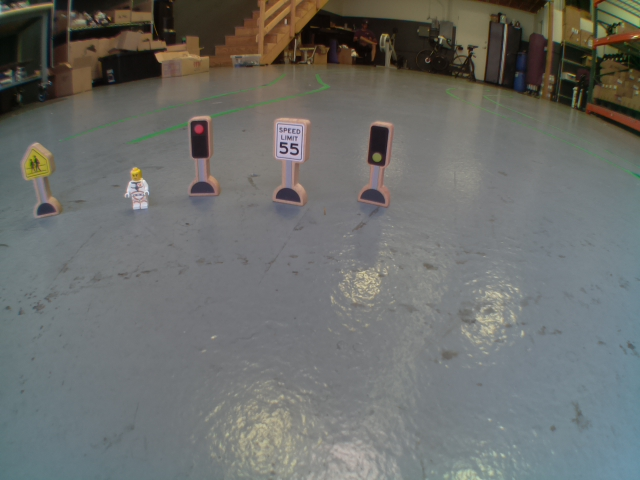Green Traffic Light: (366, 120, 391, 170)
Red Traffic Light: (184, 116, 217, 163)
Speed Limit 55: (272, 116, 307, 159)
YIELD: (18, 144, 56, 181)
person: (120, 166, 154, 210)
